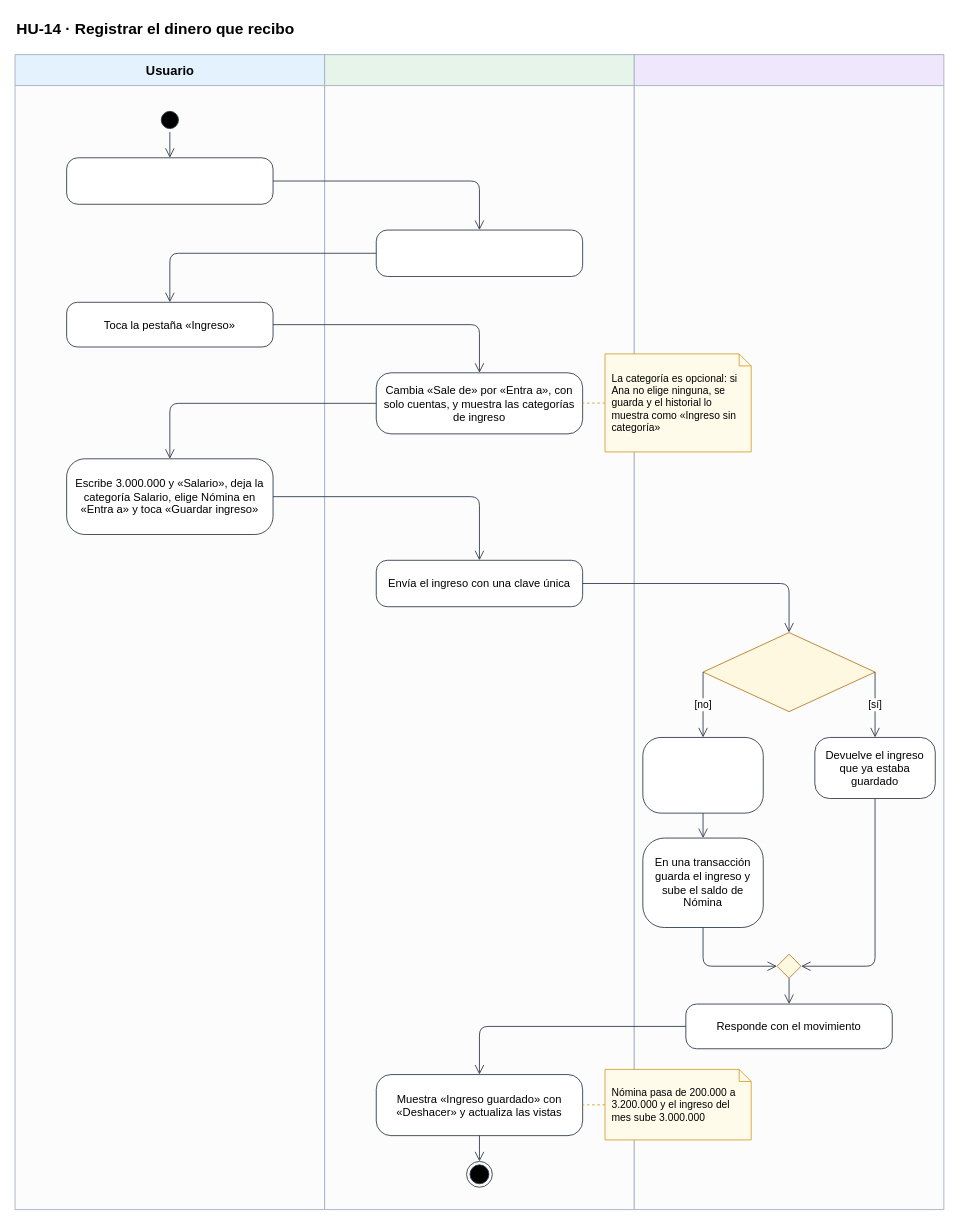
This 959x1225 diagram has some shape labels left out. The shapes that lost their labels are listed below. From the top down, each one's box as (x1, y1, x2, y2) in pixels, then its label:
(66, 157, 273, 204): Toca el botón «+» y luego «Llenarlo a mano»
(375, 229, 583, 276): Muestra el formulario manual en la pestaña «Gasto»
(324, 54, 634, 1210): App
(633, 54, 944, 1210): API
(702, 632, 875, 712): ¿Esa clave ya se había usado?
(642, 737, 763, 813): Valida que llegue a una cuenta y que la categoría sea de ingreso
